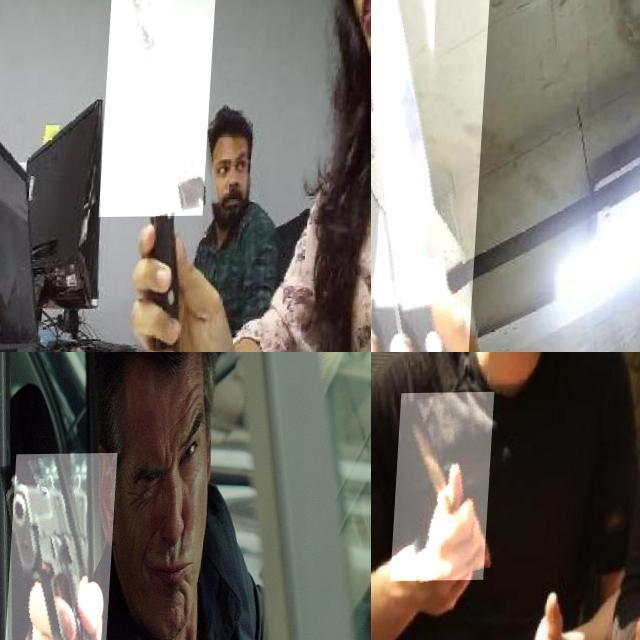-: (371, 0, 495, 352), (103, 0, 222, 218), (397, 392, 499, 582)
gun-knife-thesis - v11 Yolov5 augmented: (4, 453, 119, 640)
